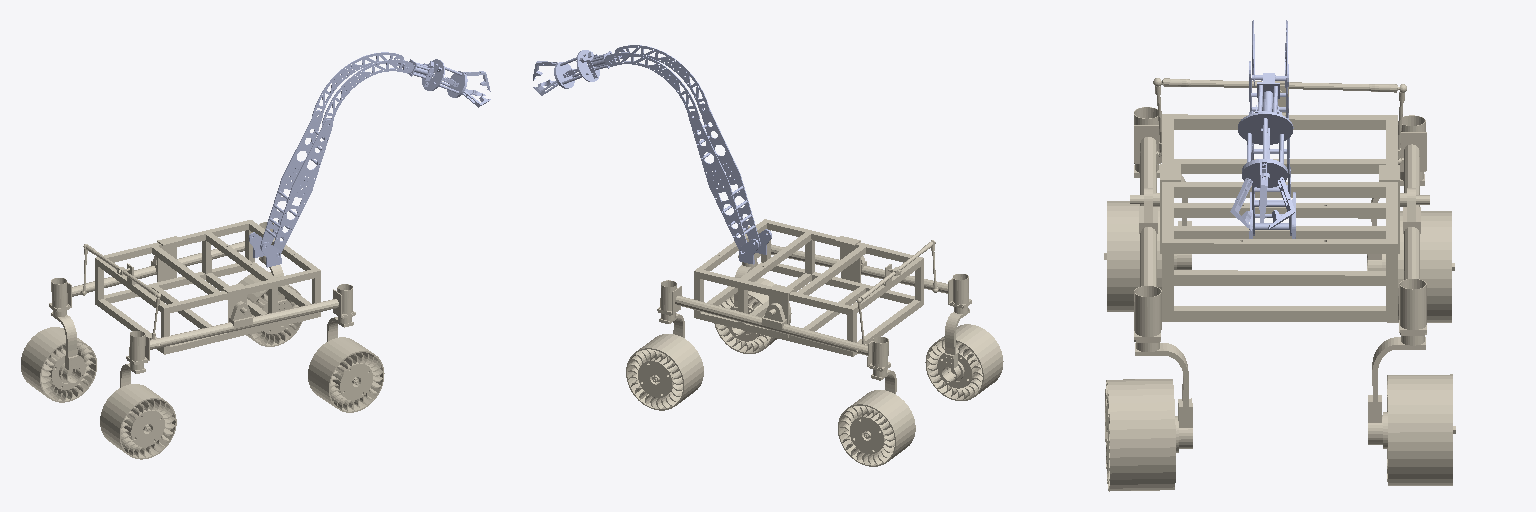
URDF robot description (rover19_urdf):
<robot
  name="rover19_urdf">
  <link
    name="base_link">
    <inertial>
      <origin
        xyz="0 0 0"
        rpy="0 0 0" />
      <mass
        value="2.7918" />
      <inertia
        ixx="0.095684"
        ixy="0.001902"
        ixz="-0.00027184"
        iyy="0.058185"
        iyz="0.00031126"
        izz="0.14455" />
    </inertial>
    <visual>
      <origin
        xyz="0 0 0"
        rpy="0 0 0" />
      <geometry>
        <mesh
          filename="package://rover19_urdf/meshes/rover.stl" />
      </geometry>
      <material
        name="">
        <color
          rgba="0.84314 0.81569 0.75294 1" />
      </material>
    </visual>
    <collision>
      <origin
        xyz="0 0 0"
        rpy="0 0 0" />
      <geometry>
        <mesh
          filename="package://rover19_urdf/meshes/rover.stl" />
      </geometry>
    </collision>
  </link>
  <link
    name="base_rot">
    <inertial>
      <origin
      xyz="0 0 0 "
      rpy="0 0 0" />
      <mass
        value="11.53" />
      <inertia
        ixx="0.13597"
        ixy="1.2879E-07"
        ixz="-9.0853E-09"
        iyy="0.097658"
        iyz="-3.0537E-14"
        izz="0.097658" />
    </inertial>
    <visual>
      <origin
      xyz="0 0 0"
      rpy="0 0 0" />
      <geometry>
        <mesh
          filename="package://rover19_urdf/meshes/base_rot.stl" />
      </geometry>
      <material
        name="">
        <color
          rgba="0.79216 0.81961 0.93333 1" />
      </material>
    </visual>
    <collision>
      <origin
      xyz="0 0 0"
      rpy="0 0 0"/>
      <geometry>
        <mesh
          filename="package://rover19_urdf/meshes/base_rot.stl" />
      </geometry>
    </collision>
  </link>
  <joint
    name="base_rot_joint"
    type="revolute">
    <origin
      xyz="252.89 -15.47 246.60"
      rpy="0 0 0" />
    <parent
      link="base_link" />
    <child
      link="base_rot" />
    <axis
      xyz="0 0 1" />
    <limit lower="-1" upper="1" effort="0" velocity="0"/>
  </joint>

  
  <link
    name="shoulder">
    <inertial>
      <origin
      xyz="0 0 0"
      rpy="0 0 0" />
      <mass
        value="11.53" />
      <inertia
        ixx="0.13597"
        ixy="1.2879E-07"
        ixz="-9.0853E-09"
        iyy="0.097658"
        iyz="-3.0537E-14"
        izz="0.097658" />
    </inertial>
    <visual>
      <origin
      xyz="129.83 -0.93 226.73"
      rpy="0 0 0" />
      <geometry>
        <mesh
          filename="package://rover19_urdf/meshes/shoulder.stl" />
      </geometry>
      <material
        name="">
        <color
          rgba="0.79216 0.81961 0.93333 1" />
      </material>
    </visual>
    <collision>
      <origin
      xyz="0 0 0"
      rpy="0 0 0"/>
      <geometry>
        <mesh
          filename="package://rover19_urdf/meshes/shoulder.stl" />
      </geometry>
    </collision>
  </link>
  <joint
    name="shoulder_joint"
    type="continuous">
    <origin
      xyz="0 0 0"
      rpy="0 0 0" />
    <parent
      link="base_rot" />
    <child
      link="shoulder" />
    <axis
      xyz="0 1 0" />
      <limit lower="-1" upper="1" effort="0" velocity="0"/>
  </joint>

  <link
    name="elbow">
    <inertial>
      <origin
      xyz="0 0 0"
      rpy="0 0 0" />
      <mass
        value="11.5298327680895" />
      <inertia
        ixx="0.135971148628003"
        ixy="-5.63856091752789E-08"
        ixz="91.16335845630891E-07"
        iyy="0.0976582051487171"
        iyz="-1.71203329291103E-13"
        izz="0.0976582051489874" />
    </inertial>
    <visual>
      <origin
        xyz="172.39 4.32 89.75"
        rpy="0 0 0" />
      <geometry>
        <mesh
          filename="package://rover19_urdf/meshes/elbow.stl" />
      </geometry>
      <material
        name="">
        <color
          rgba="0.792156862745098 0.819607843137255 0.933333333333333 1" />
      </material>
    </visual>
    <collision>
      <origin
        xyz="0 0 0"
        rpy="0 0 0" />
      <geometry>
        <mesh
          filename="package://rover19_urdf/meshes/elbow.stl" />
      </geometry>
    </collision>
  </link>
  <joint
    name="elbow_joint"
    type="continuous">
    <origin
      xyz="234.16 -9.84 460.51"
      rpy="0 0 0" />
    <parent
      link="shoulder" />
    <child
      link="elbow" />
    <axis
      xyz="0 1 0" />
  </joint>

  <link
    name="gripper_link1">
    <inertial>
      <origin
      xyz="0 0 0"
      rpy="0 0 0" />
      <mass
        value="11.5298327680895" />
      <inertia
        ixx="0.135971148628439"
        ixy="-2.13278075453915E-13"
        ixz="1.49984791894007E-14"
        iyy="0.0976582051486343"
        iyz="2.16840434497101E-18"
        izz="0.0976582051486343" />
    </inertial>
    <visual>
      <origin
        xyz="50.41 0.09 -29.47"
        rpy="0 0 0" />
      <geometry>
        <mesh
          filename="package://rover19_urdf/meshes/gripper_link1.stl" />
      </geometry>
      <material
        name="">
        <color
          rgba="0.792156862745098 0.819607843137255 0.933333333333333 1" />
      </material>
    </visual>
    <collision>
      <origin
        xyz="0 0 0"
        rpy="0 0 0" />
      <geometry>
        <mesh
          filename="package://rover19_urdf/meshes/gripper_link1.stl" />
      </geometry>
    </collision>
  </link>
  <joint
    name="gripper_link1_joint"
    type="continuous">
    <origin
      xyz="342.91 1.74 138.36"
      rpy="0 0 0" />
    <parent 
      link="elbow" />
    <child
      link="gripper_link1" />
    <axis
      xyz="0 1 0" />
  </joint>
 
  <link
    name="gripper_link2">
    <inertial>
      <origin 
      xyz="0 0 0"
      rpy="0 0 0" />
      <mass
        value="11.5298327680895" />
      <inertia
        ixx="0.135971148628439"
        ixy="-2.13278075453915E-13"
        ixz="1.49984791894007E-14"
        iyy="0.0976582051486343"
        iyz="2.16840434497101E-18"
        izz="0.0976582051486343" />
    </inertial>
    <visual>
      <origin
        xyz="50.71 -3.19 -31.27"
        rpy="0 0 0" />
      <geometry>
        <mesh
          filename="package://rover19_urdf/meshes/gripper_link2.stl" />
      </geometry>
      <material
        name="">
        <color
          rgba="0.792156862745098 0.819607843137255 0.933333333333333 1" />
      </material>
    </visual>
    <collision>
      <origin
        xyz="0 0 0"
        rpy="0 0 0" />
      <geometry>
        <mesh
          filename="package://rover19_urdf/meshes/gripper_link2.stl" />
      </geometry>
    </collision>
  </link>
  <joint
    name="gripper_link2_joint"
    type="revolute">
    <origin
      xyz="113.27 -4.19 -56.24"
      rpy="0 0 0" />
    <parent
      link="gripper_link1" />
    <child
      link="gripper_link2" />
    <axis
      xyz="55.32 -0.68 -36.51" />
    <limit lower="-1" upper="1" effort="0" velocity="0"/>
  </joint>

  <link
    name="finger0">
    <inertial>
      <origin
      xyz="0 0 0"
      rpy="0 0 0" />
      <mass
        value="11.5298327680895" />
      <inertia
        ixx="0.135971148628439"
        ixy="-1.95838647067939E-13"
        ixz="-9.49762849544681E-14"
        iyy="0.097658205148634"
        iyz="2.42861286636753E-17"
        izz="0.097658205148634" />
    </inertial>
    <visual>
      <origin
        xyz="53.21 -50.09 -48.38"
        rpy="0 0 0" />
      <geometry>
        <mesh
          filename="package://rover19_urdf/meshes/finger0.stl" />
      </geometry>
      <material
        name="">
        <color
          rgba="0.792156862745098 0.819607843137255 0.933333333333333 1" />
      </material>
    </visual>
    <collision>
      <origin
        xyz="0 0 0"
        rpy="0 0 0" />
      <geometry>
        <mesh
          filename="package://rover19_urdf/meshes/finger0.stl" />
      </geometry>
    </collision>
  </link>
  <joint
    name="finger0_joint"
    type="revolute">
    <origin      
      xyz="112.78 -4.82 -60.85"
      rpy="0 0 0" />
    <parent
      link="gripper_link2" />
    <child
      link="finger0" />
    <axis
      xyz="-0.4811975 -0.22519062  0.84719428" />
    <limit lower="0" upper="0.22" effort="0" velocity="0"/>
  </joint>
  
  <link
    name="finger1">
    <inertial>
      <origin
      xyz="0 0 0"
      rpy="0 0 0" />
      <mass
        value="11.5298327680895" />
      <inertia
        ixx="0.135971148628439"
        ixy="-1.95838647067939E-13"
        ixz="-9.49762849544681E-14"
        iyy="0.097658205148634"
        iyz="2.42861286636753E-17"
        izz="0.097658205148634" />
    </inertial>
    <visual>
      <origin
        xyz="73.51 -2.91 -11.69"
        rpy="0 0 0" />
      <geometry>
        <mesh
          filename="package://rover19_urdf/meshes/finger1.stl" />
      </geometry>
      <material
        name="">
        <color
          rgba="0.792156862745098 0.819607843137255 0.933333333333333 1" />
      </material>
    </visual>
    <collision>
      <origin
        xyz="0 0 0"
        rpy="0 0 0" />
      <geometry>
        <mesh
          filename="package://rover19_urdf/meshes/finger1.stl" />
      </geometry>
    </collision>
  </link>
  <joint
    name="finger1_joint"
    type="revolute">
    <origin      
      xyz="112.78 -4.82 -60.85"
      rpy="0 0 0" />
    <parent
      link="gripper_link2" />
    <child
      link="finger1" />
    <axis
      xyz="0.19700433 0.97014849  -0.14142563" />
    <limit lower="0" upper="0.07" effort="0" velocity="0"/>
  </joint>

  <link
    name="finger2">
    <inertial>
      <origin
      xyz="0 0 0"
      rpy="0 0 0" />
      <mass
        value="11.5298327680895" />
      <inertia
        ixx="0.135971148628439"
        ixy="-1.95838647067939E-13"
        ixz="-9.49762849544681E-14"
        iyy="0.097658205148634"
        iyz="2.42861286636753E-17"
        izz="0.097658205148634" />
    </inertial>
    <visual>
      <origin
        xyz="53.27 36.48 -46.25"
        rpy="0 0 0" />
      <geometry>
        <mesh
          filename="package://rover19_urdf/meshes/finger2.stl" />
      </geometry>
      <material
        name="">
        <color
          rgba="0.792156862745098 0.819607843137255 0.933333333333333 1" />
      </material>
    </visual>
    <collision>
      <origin
        xyz="0 0 0"
        rpy="0 0 0" />
      <geometry>
        <mesh
          filename="package://rover19_urdf/meshes/finger2.stl" />
      </geometry>
    </collision>
  </link>
  <joint
    name="finger2_joint"
    type="revolute">
    <origin      
      xyz="112.78 -4.82 -60.85"
      rpy="0 0 0" />
    <parent
      link="gripper_link2" />
    <child
      link="finger2" />
    <axis
      xyz="0.43525535 -0.23528661 -0.8690184" />
    <limit lower="0" upper="0.14" effort="0" velocity="0"/>
  </joint>
</robot>

--- Facts derived from the render (not from the file) ---
The picture shows the robot from 3 angles, left to right: view 1: azimuth 30°, elevation 25°; view 2: azimuth 150°, elevation 25°; view 3: azimuth 270°, elevation 25°; orthographic projection.
Robot: rover19_urdf — 9 links, 8 joints (5 revolute, 3 continuous); root link base_link; default pose: every joint at zero.
Links seen in each view (by area): view 1: base_link, shoulder, elbow, gripper_link2, base_rot; view 2: base_link, shoulder, elbow, gripper_link2, base_rot; view 3: base_link, gripper_link2, shoulder, gripper_link1.
Link boxes in pixels (left/top/right/bottom): base_link: left=21, top=220, right=384, bottom=459; shoulder: left=260, top=111, right=332, bottom=256; elbow: left=312, top=52, right=413, bottom=125; gripper_link2: left=422, top=59, right=467, bottom=97; base_rot: left=249, top=232, right=281, bottom=267; base_link: left=626, top=219, right=1003, bottom=466; shoulder: left=688, top=107, right=760, bottom=252; elbow: left=605, top=45, right=709, bottom=118; gripper_link2: left=554, top=50, right=599, bottom=88; base_rot: left=739, top=229, right=771, bottom=264; base_link: left=1104, top=78, right=1455, bottom=491; gripper_link2: left=1238, top=111, right=1293, bottom=187; shoulder: left=1249, top=61, right=1291, bottom=235; gripper_link1: left=1251, top=73, right=1286, bottom=112.
Bounding box of the posed robot: 1744 × 756 × 1209 m (x, y, z).
9 mesh visuals loaded from 9 distinct referenced files (9 binary STL).